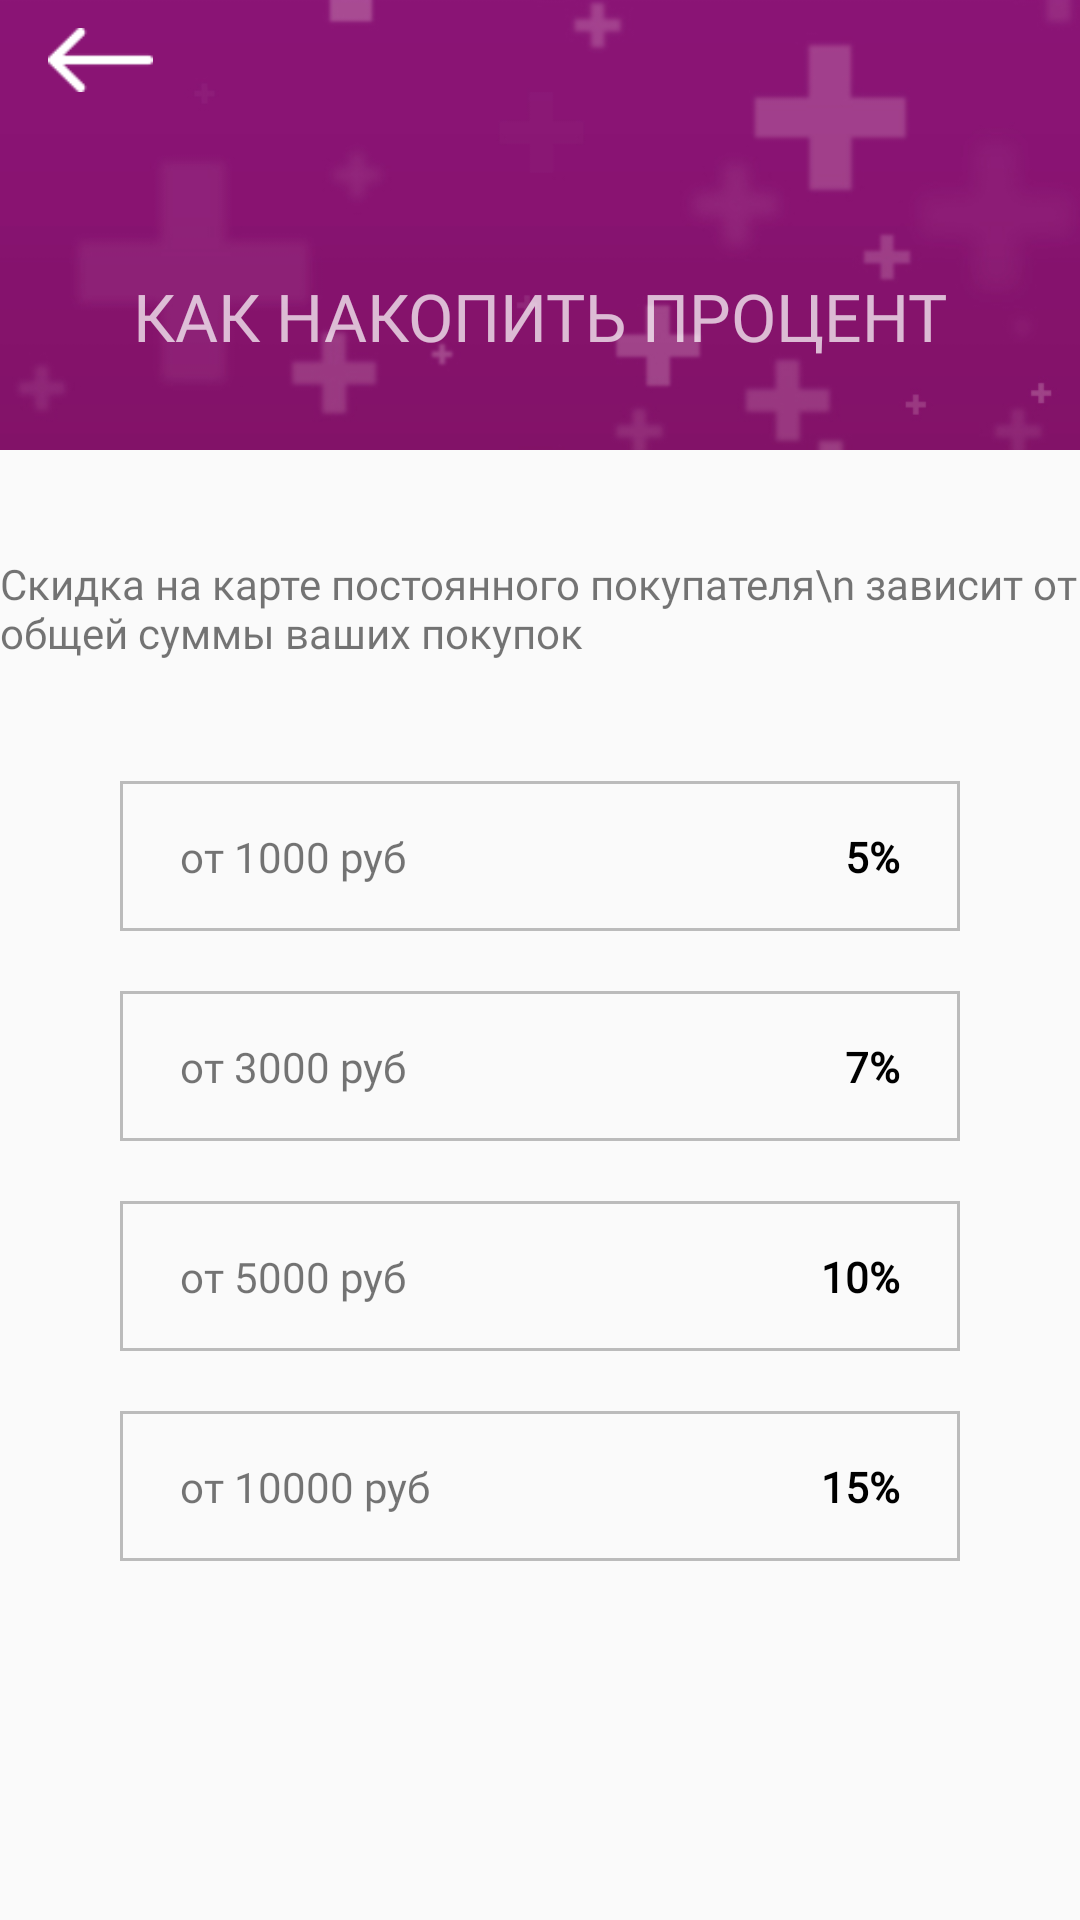

Point at icon controls on the screen. Image size 1080px x 1920px, points as (x,y).
arrow back: (100,60)
